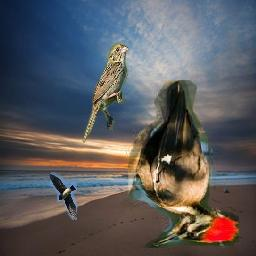Sparrow: (83, 43, 130, 143)
Swallow: (51, 172, 78, 220)
Woodpecker: (125, 80, 240, 248)
